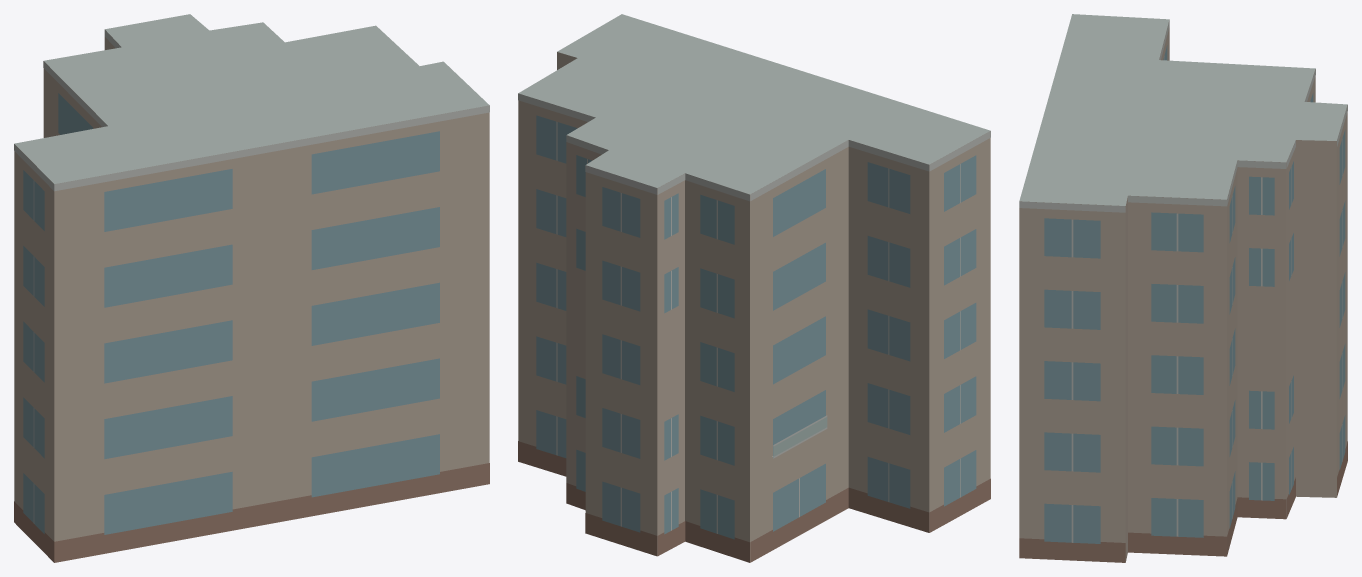
File: survey-upis-32968300.glb
The picture shows the model from 3 angles, left to right: view 1: azimuth 30°, elevation 25°; view 2: azimuth 150°, elevation 25°; view 3: azimuth 270°, elevation 25°; orthographic projection. The views are drawn at different scales.
Visible parts, largest first — view 1: survey-upis-32968300.tmp; view 2: survey-upis-32968300.tmp; view 3: survey-upis-32968300.tmp.
Boxes of the visible parts, x1,y1,x2,y2 form: survey-upis-32968300.tmp: (14, 14, 489, 562); survey-upis-32968300.tmp: (518, 14, 990, 562); survey-upis-32968300.tmp: (1019, 14, 1347, 562).
Bounding box in the file's own units: 15.02 × 13 × 10.86.
